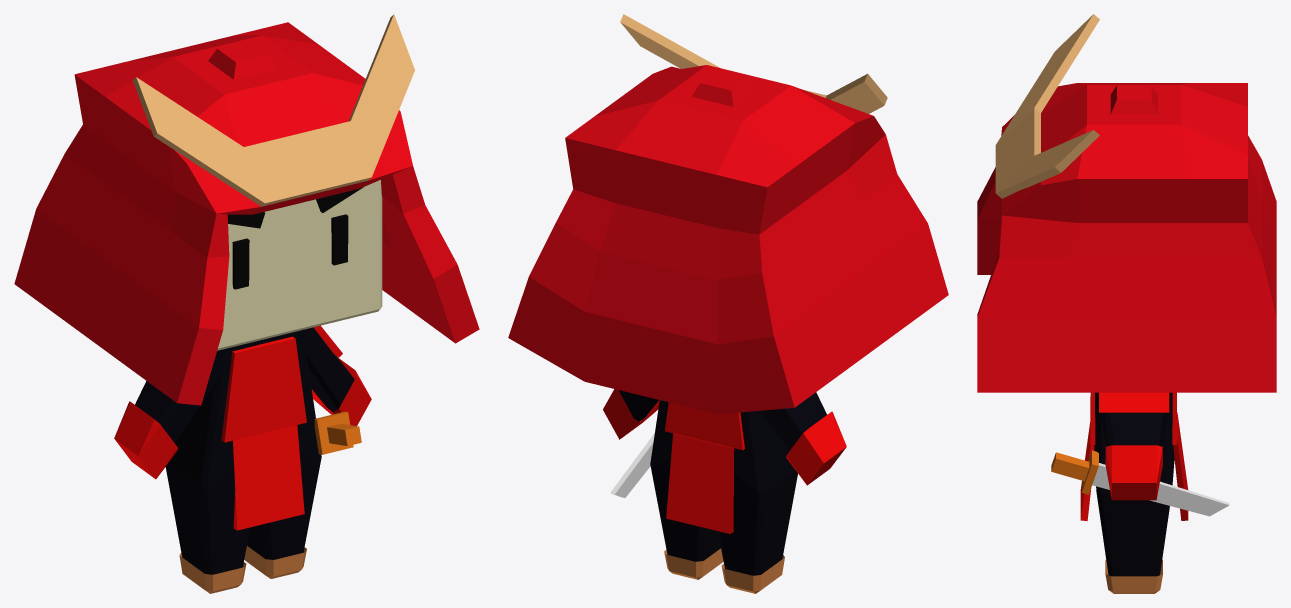
File: Samurai.fbx
3 views of the same model, side by side, from view 1: azimuth 30°, elevation 25°; view 2: azimuth 150°, elevation 25°; view 3: azimuth 270°, elevation 25° (orthographic). The views are drawn at different scales.
Parts seen in each view (by area): view 1: BackPlate; view 2: BackPlate; view 3: BackPlate.
Boxes of the visible parts, bbox=[...] form: BackPlate: bbox=[14, 14, 479, 593]; BackPlate: bbox=[508, 14, 948, 593]; BackPlate: bbox=[977, 14, 1276, 593].
Bounding box in the file's own units: 337 × 580 × 314.
